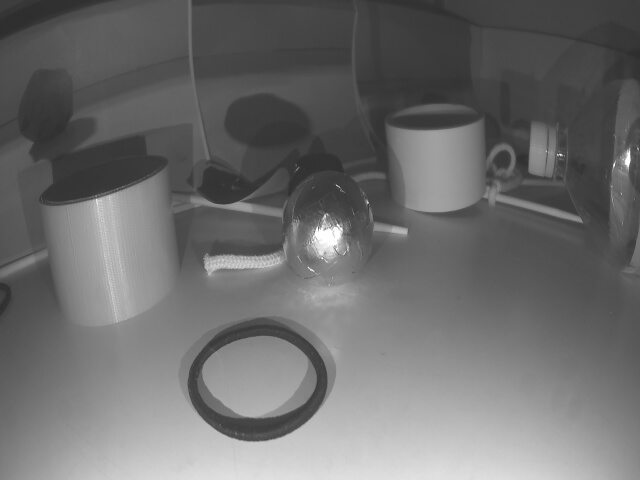Dead: (291, 157, 342, 192)
Live: (283, 172, 377, 288)
